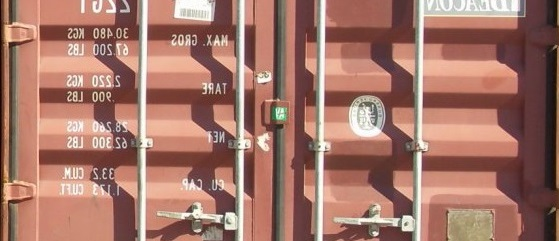container_door: (7, 1, 548, 237)
